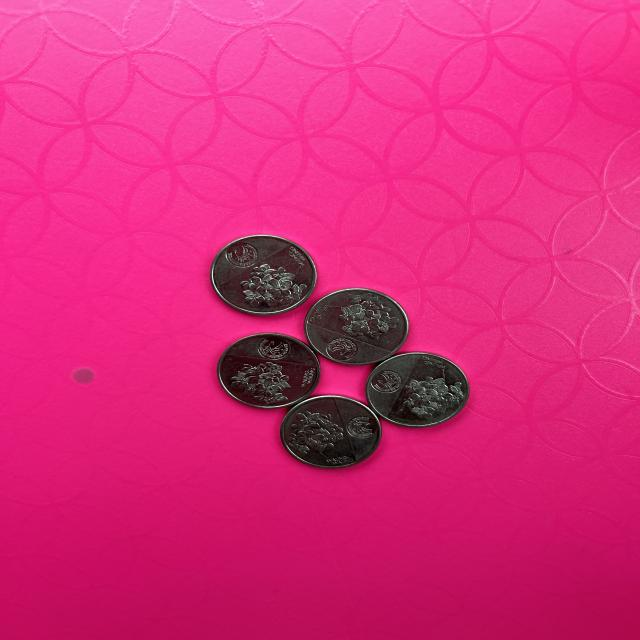1_New_Back: (328, 290, 395, 342), (399, 365, 460, 416), (234, 263, 298, 311), (286, 412, 348, 459), (225, 355, 288, 400)
